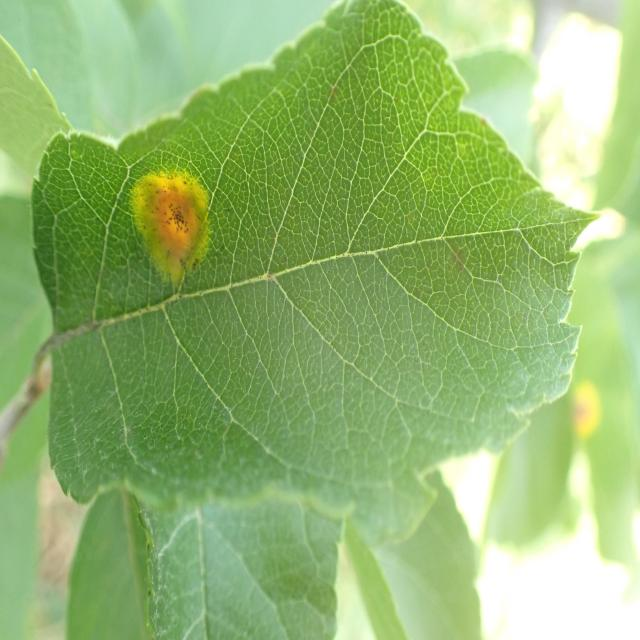Rust: (121, 152, 215, 298)
